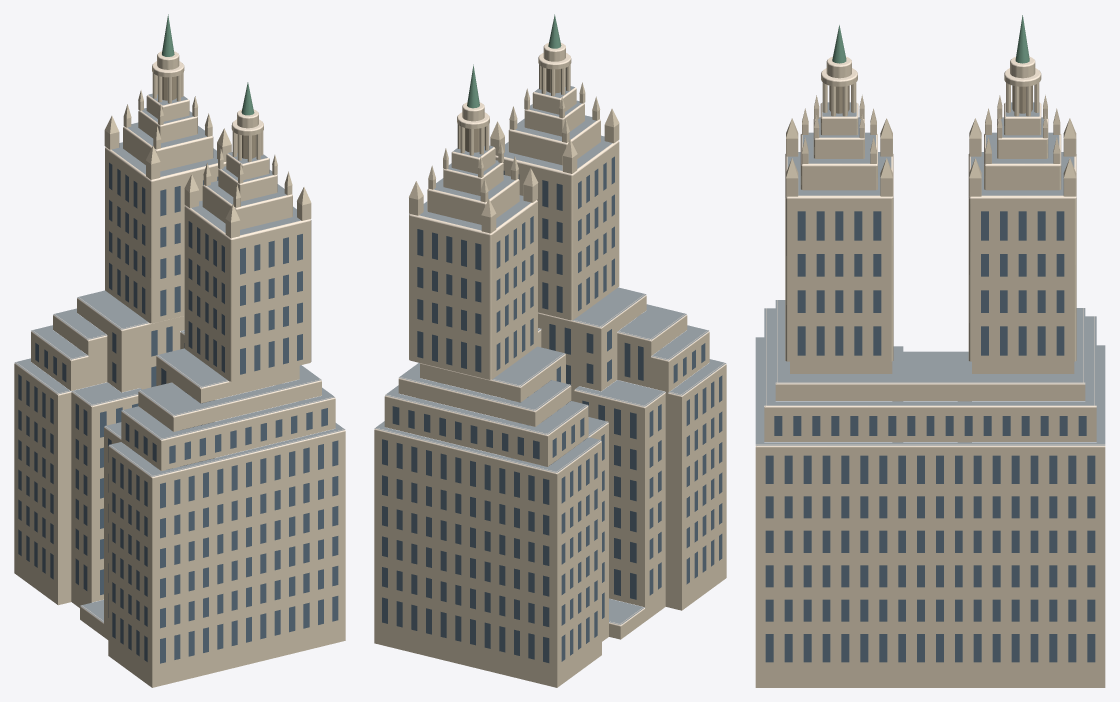
File: nyc-san-remo.glb
3 renders of one model, left to right at view 1: azimuth 30°, elevation 25°; view 2: azimuth 150°, elevation 25°; view 3: azimuth 270°, elevation 25°, orthographic. The views are drawn at different scales.
Parts seen in each view (by area): view 1: The San Remo; view 2: The San Remo; view 3: The San Remo.
Part boxes in pixels (left/top/right/bottom): The San Remo: left=14, top=14, right=345, bottom=687; The San Remo: left=374, top=14, right=726, bottom=687; The San Remo: left=755, top=15, right=1105, bottom=687.
Bounding box in the file's own units: 45.2 × 124 × 61.5.
